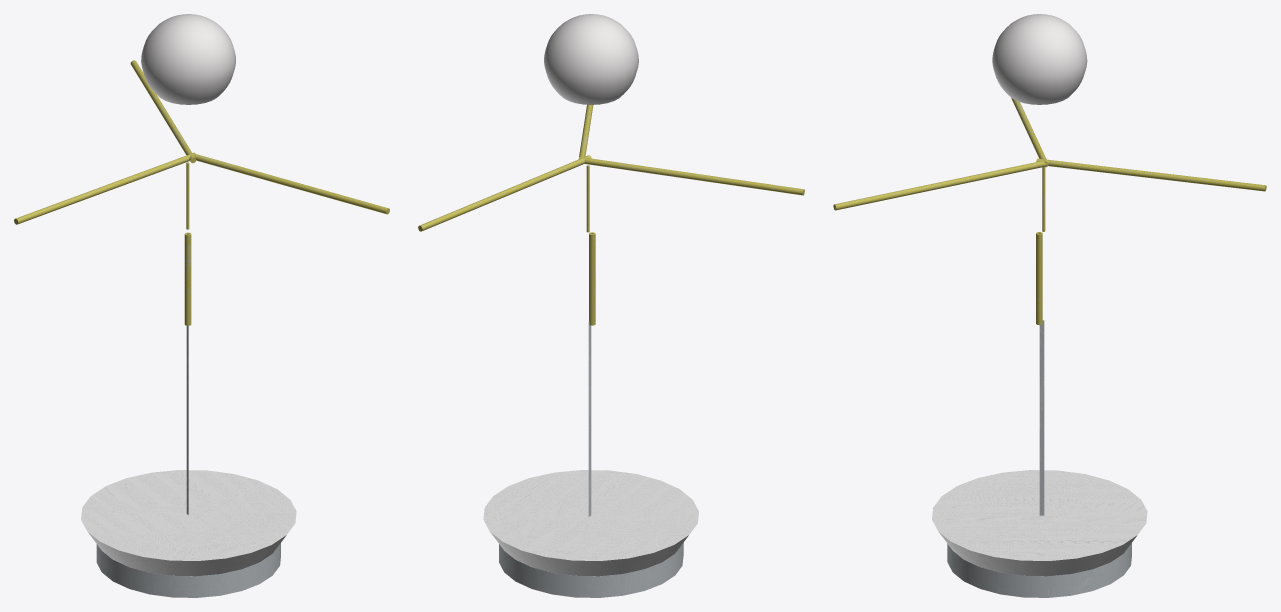
The picture shows the model from 3 angles, left to right: view 1: azimuth 30°, elevation 25°; view 2: azimuth 150°, elevation 25°; view 3: azimuth 270°, elevation 25°; orthographic projection.
Parts seen in each view (by area): view 1: group_8_001, group_6_020, group_7_001, instance_1, instance_0, instance_2, group_1, group_9_002; view 2: group_8_001, group_6_020, group_7_001, instance_0, instance_2, group_9_002, group_1; view 3: group_8_001, group_6_020, group_7_001, instance_2, instance_1, group_9_002, group_1.
Part boxes in pixels (<box>): group_8_001: <box>81,470,296,576</box>; group_6_020: <box>141,14,235,104</box>; group_7_001: <box>96,543,280,597</box>; instance_1: <box>191,152,389,214</box>; instance_0: <box>14,152,195,224</box>; instance_2: <box>130,60,196,163</box>; group_1: <box>184,232,191,325</box>; group_9_002: <box>186,326,188,514</box>; group_8_001: <box>483,470,698,576</box>; group_6_020: <box>544,14,638,104</box>; group_7_001: <box>499,543,683,597</box>; instance_0: <box>578,157,804,195</box>; instance_2: <box>418,155,591,231</box>; group_9_002: <box>588,321,591,516</box>; group_1: <box>589,232,595,325</box>; group_8_001: <box>932,470,1147,576</box>; group_6_020: <box>992,14,1087,104</box>; group_7_001: <box>947,543,1131,597</box>; instance_2: <box>1036,158,1266,191</box>; instance_1: <box>833,160,1048,210</box>; group_9_002: <box>1039,320,1044,515</box>; group_1: <box>1036,232,1042,325</box>.
Size of the model in its own units: 0.2029 by 0.2603 by 0.3583.
